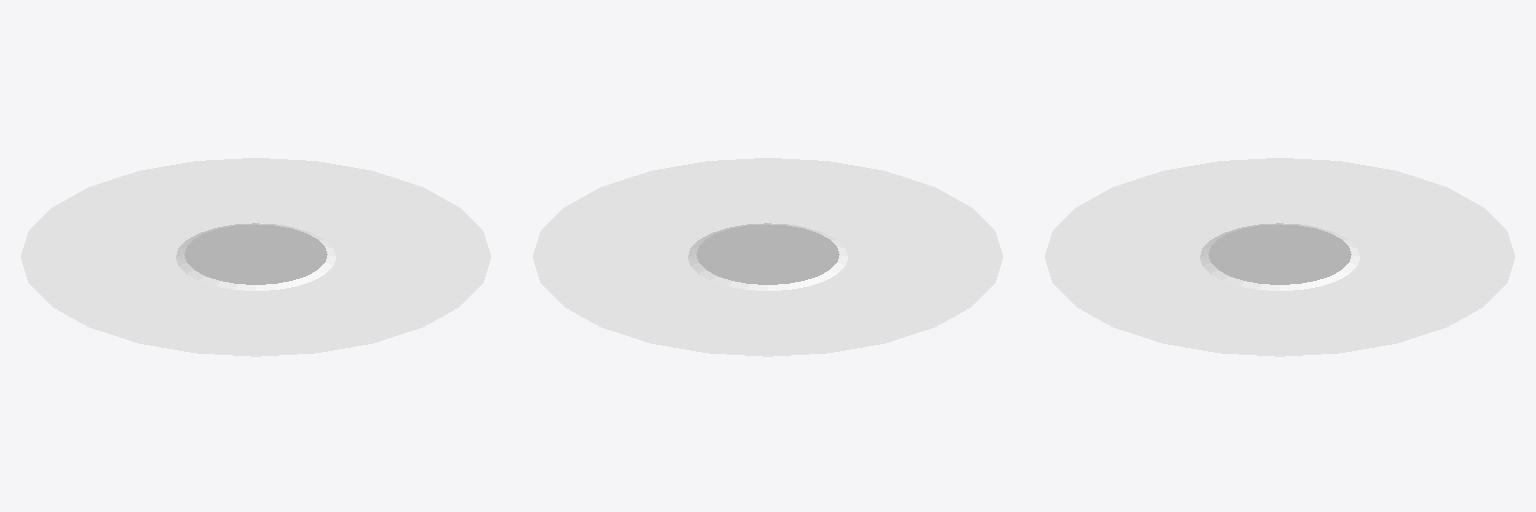
Rendered from RouletteWheel_v2_KCL.obj.
The picture shows the model from 3 angles: view 1: azimuth 30°, elevation 25°; view 2: azimuth 150°, elevation 25°; view 3: azimuth 270°, elevation 25°; orthographic projection.
Parts seen in each view (by area): view 1: n7b4; view 2: n7b4; view 3: n7b4.
Part boxes in pixels (x1,y1,x2,y2): n7b4: (21,158,490,356); n7b4: (533,158,1002,356); n7b4: (1045,158,1514,356).
Size of the model in its own units: 4.8 by 0.0279 by 4.8.